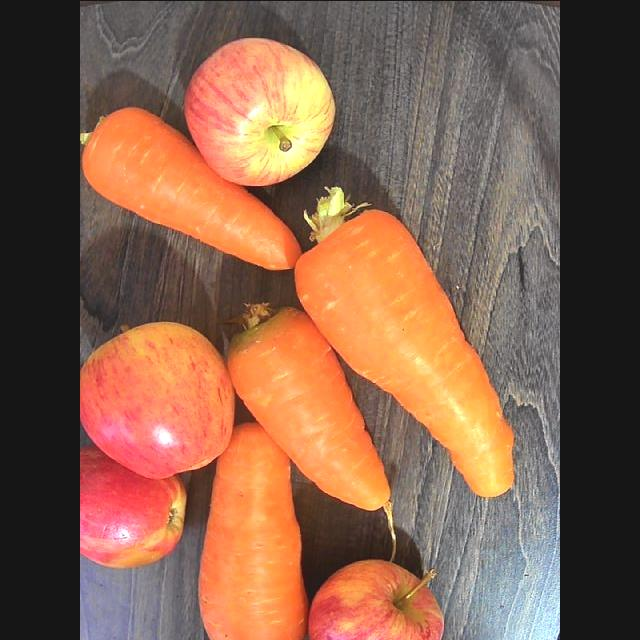manzana: (80, 321, 234, 477), (185, 37, 334, 184), (80, 445, 186, 567), (308, 559, 443, 639)
zanahoria: (295, 188, 513, 495), (80, 107, 300, 268), (227, 306, 389, 508), (198, 422, 307, 639)
